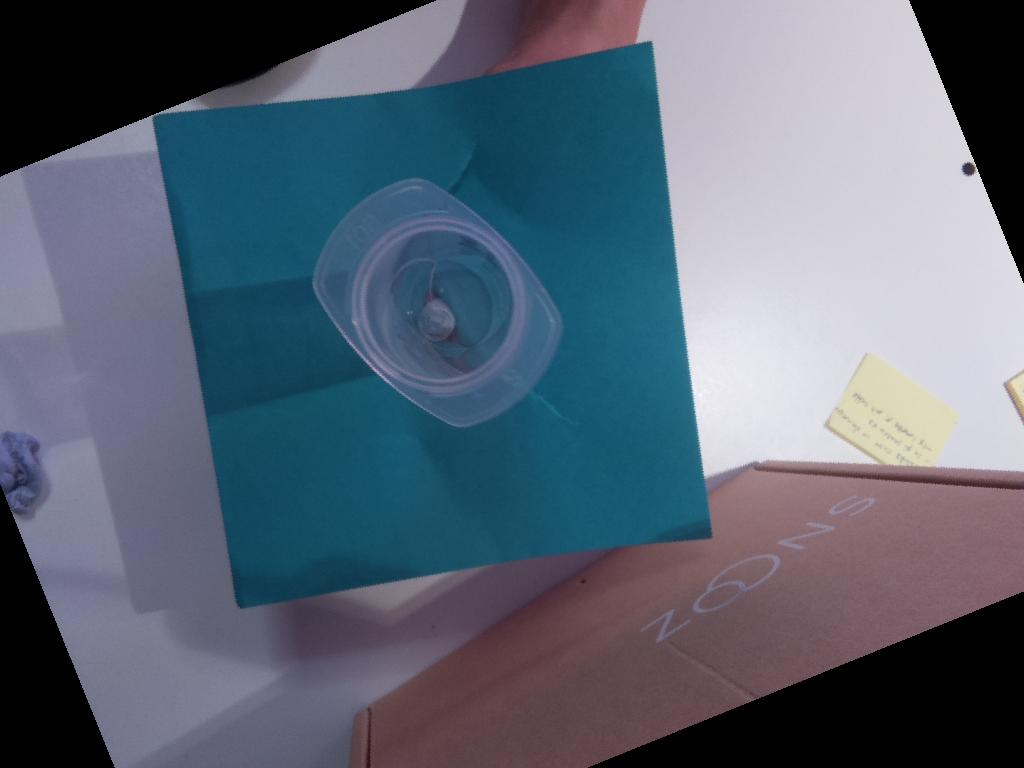clean: (312, 175, 564, 428)
